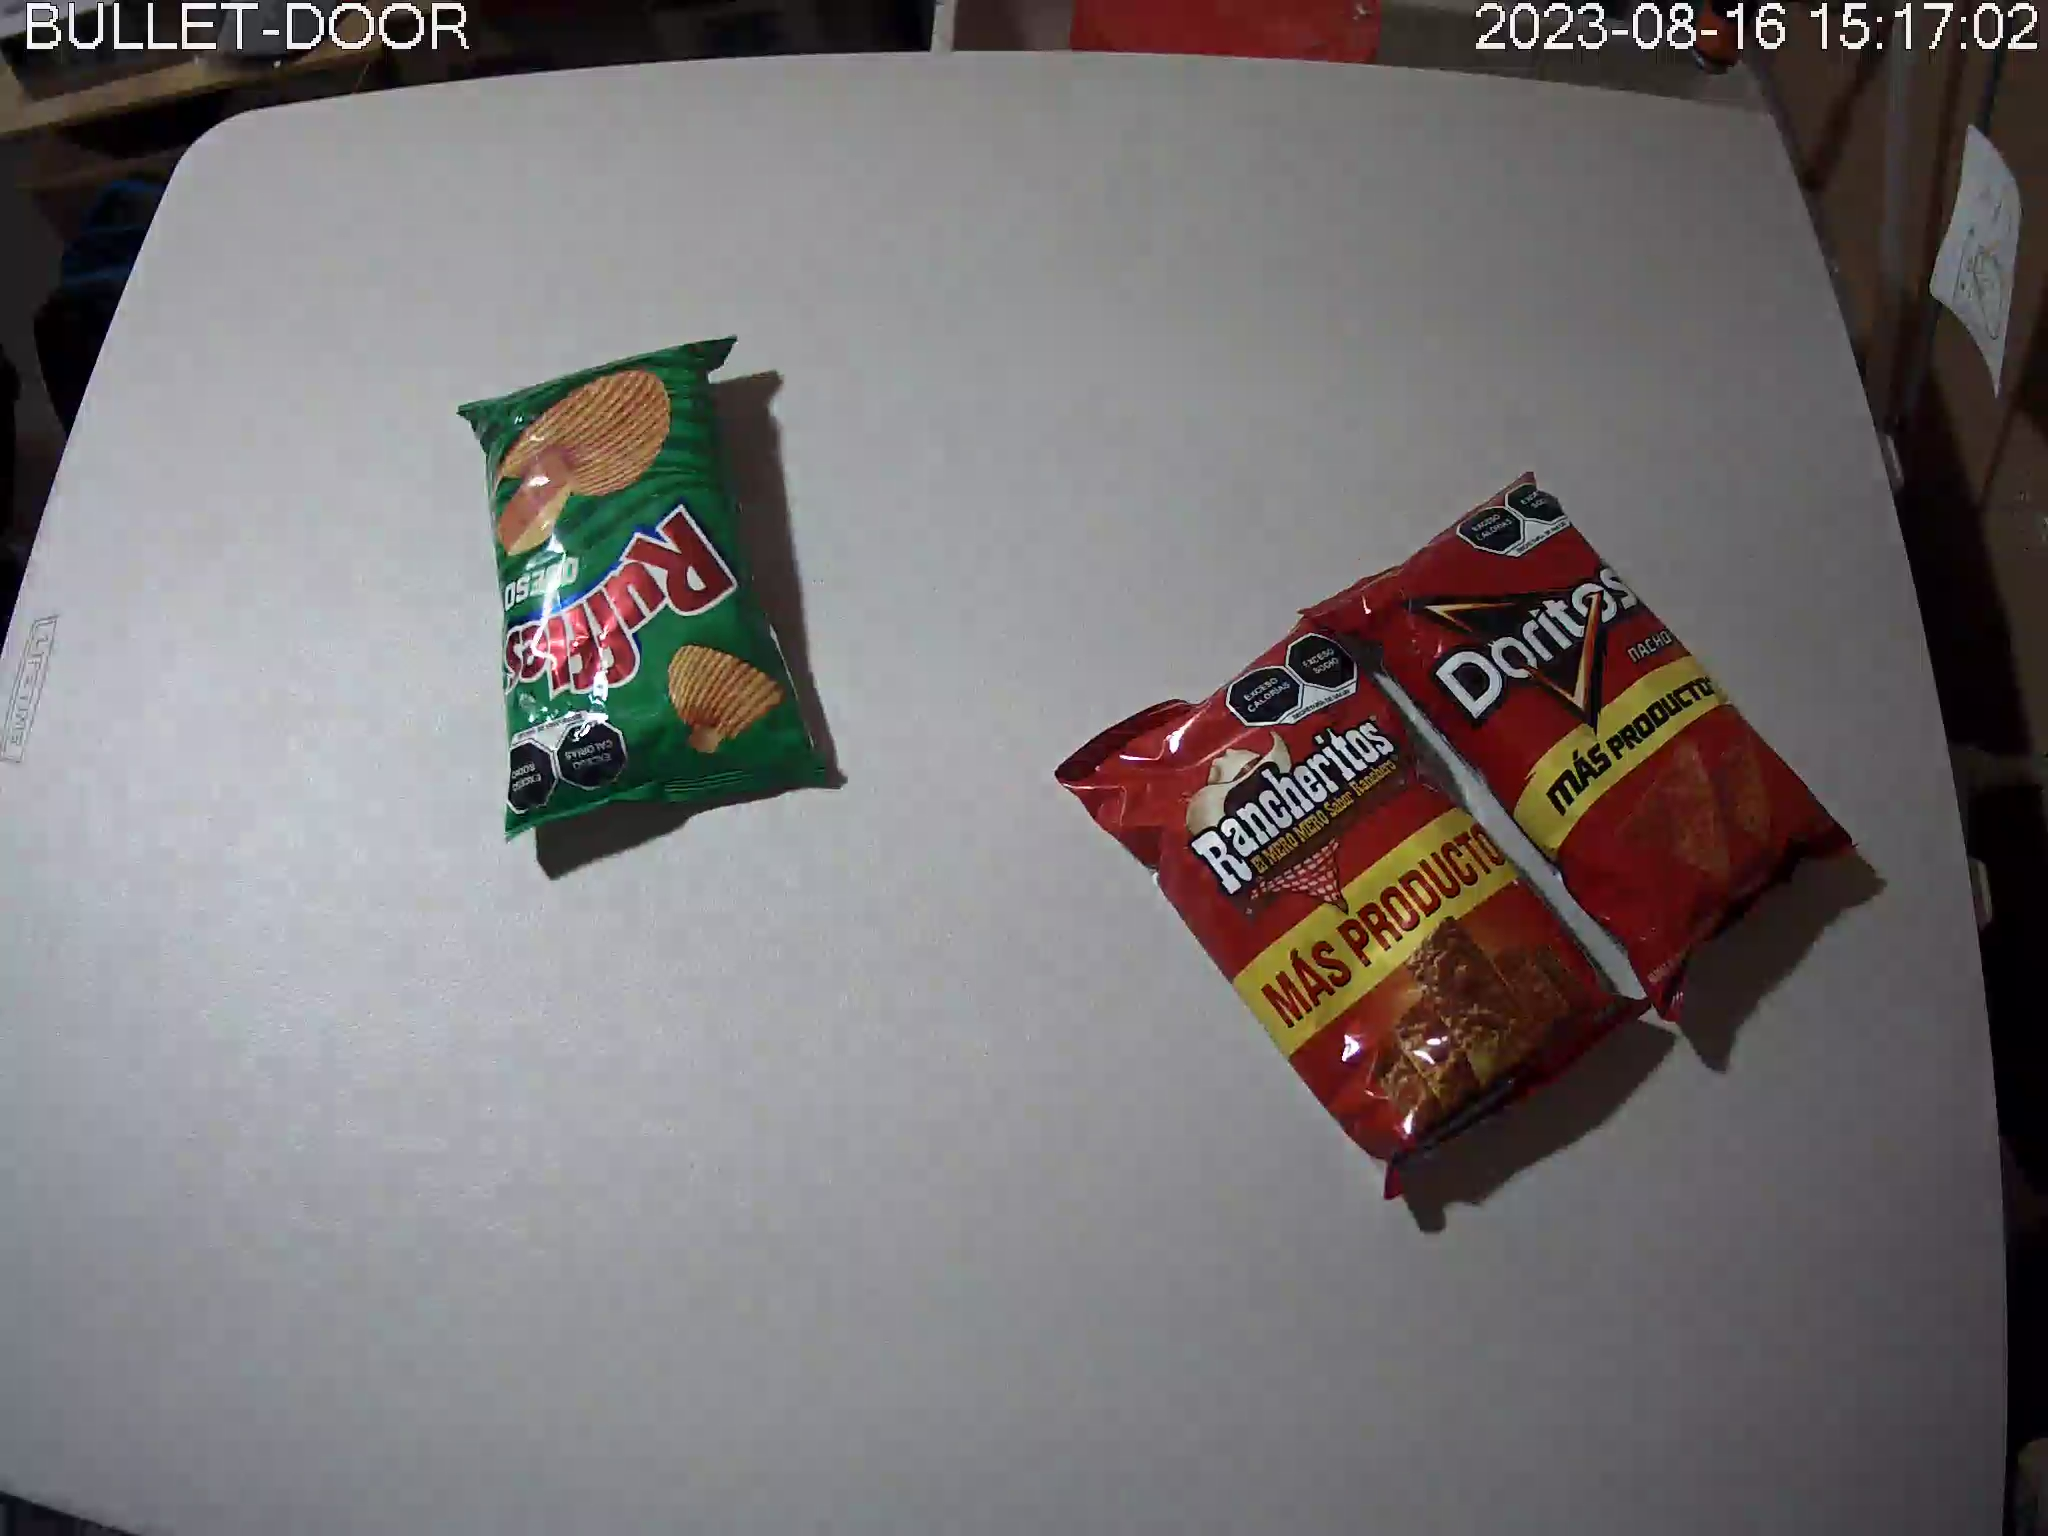DoritosN_61_F: (1300, 471, 1859, 1028)
Rancheritos_58_F: (1055, 607, 1659, 1204)
RufflesQ_48_F: (455, 336, 830, 847)
